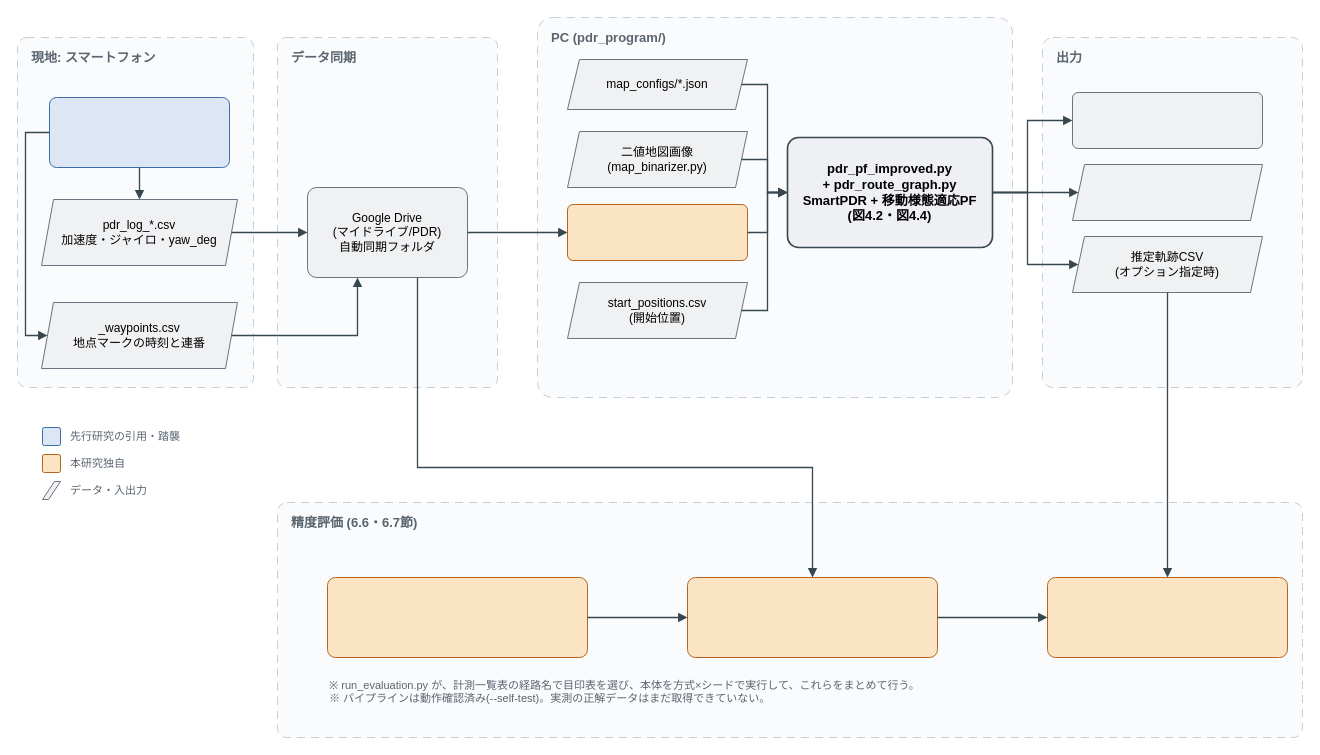
This 1320x755 diagram has some shape labels left out. The centre of each missing label's shape, as x and y in pixels:
"build_ground_truth.py 地点マークの連番と目印表を 突き合わせ正解位置列を作る" goes at (x=812, y=617).
"evaluate_accuracy.py 平均誤差・RMSE・最大誤差 (6.6節)" goes at (x=1167, y=617).
"make_route_landmarks.py 目印のマスター表と経路定義から 経路ごとの目印表を作る(計測前)" goes at (x=457, y=617).
"PDR計測アプリ (Android) MainActivity.kt" goes at (x=139, y=132).
"results/ へ PNG自動保存" goes at (x=1167, y=192).
"フォルダ監視 (watchdog)" goes at (x=657, y=232).
"リアルタイム表示 (matplotlib)" goes at (x=1167, y=120).
